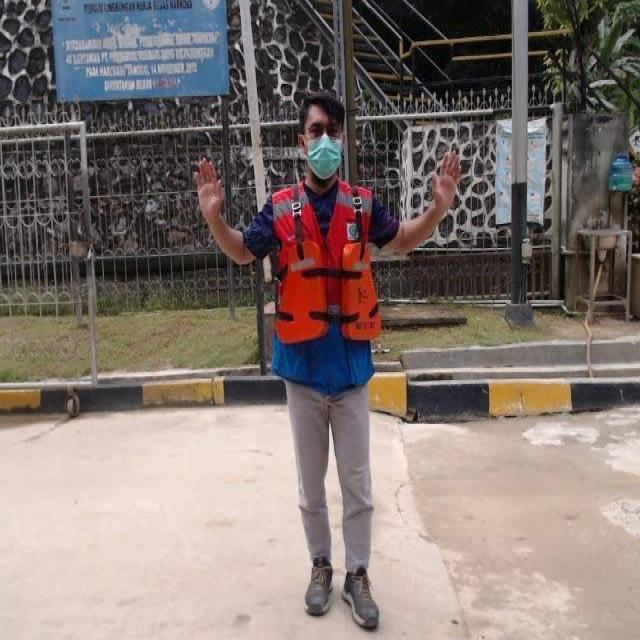Vest: (274, 238, 384, 350)
